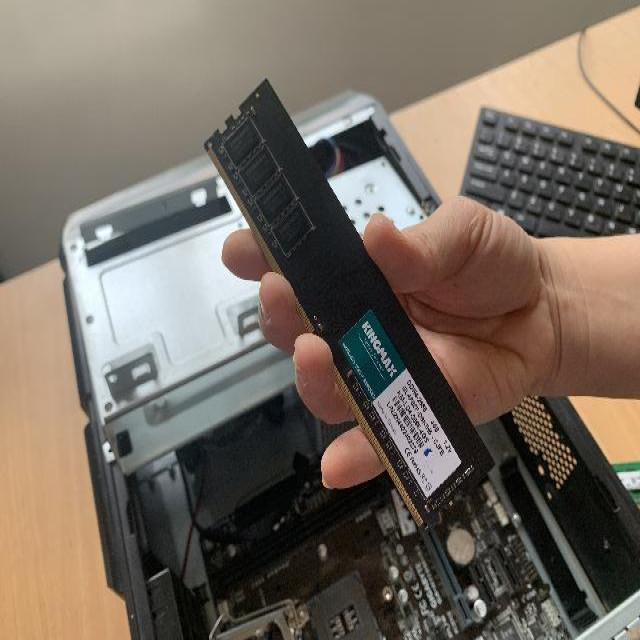RAM: (203, 74, 497, 529)
